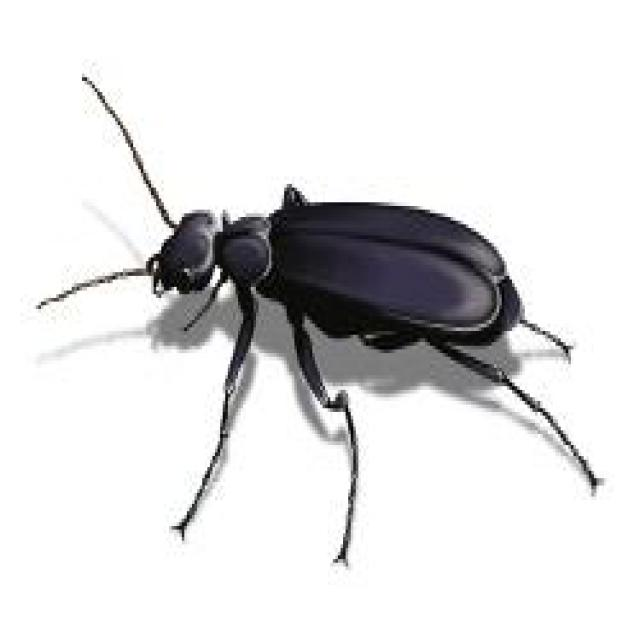BlisterBeetle-Adult-: (44, 61, 623, 574)
